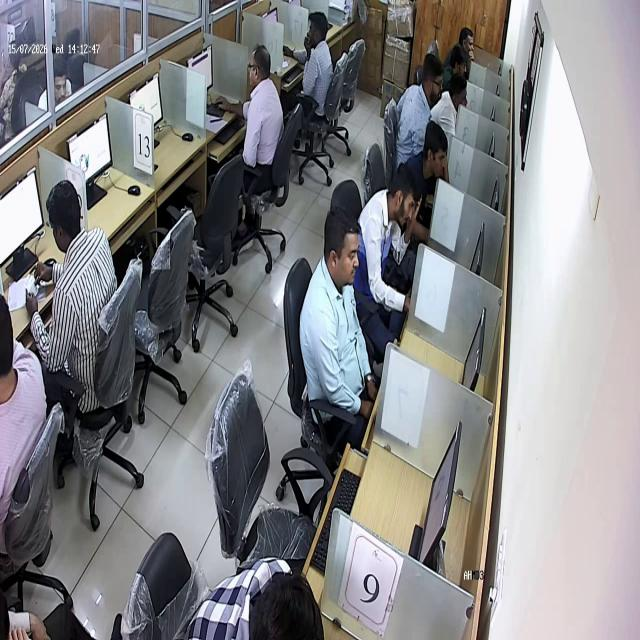paper-chit: (24, 273, 41, 296)
